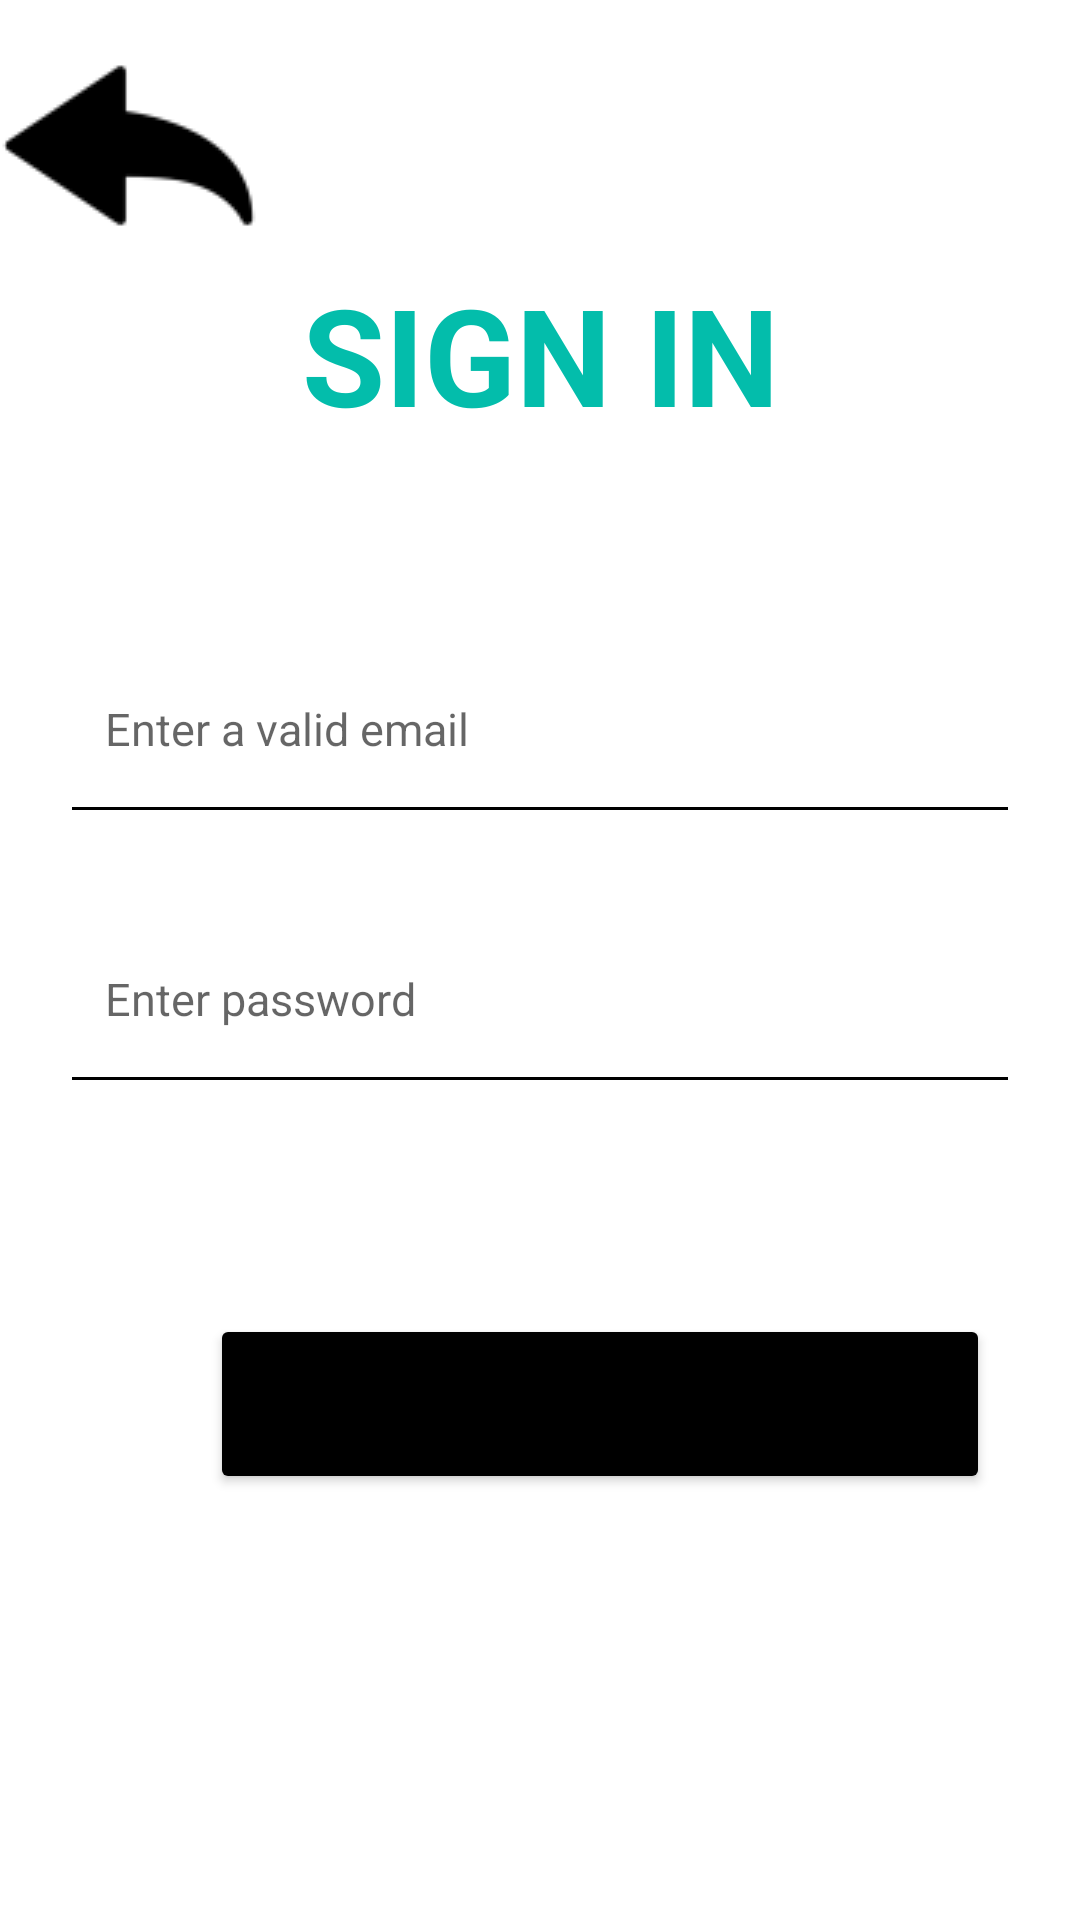

Named icons in this screenshot (1080*1920) and their centers, [x,y]:
back arrow image: [129,145]
